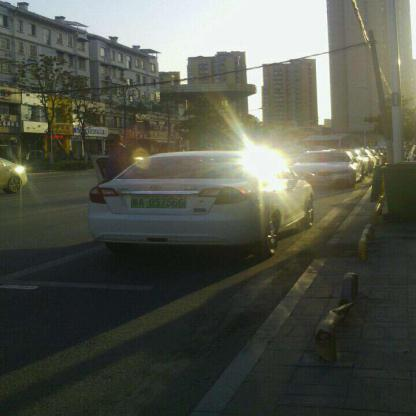lp: (132, 194, 186, 208)
